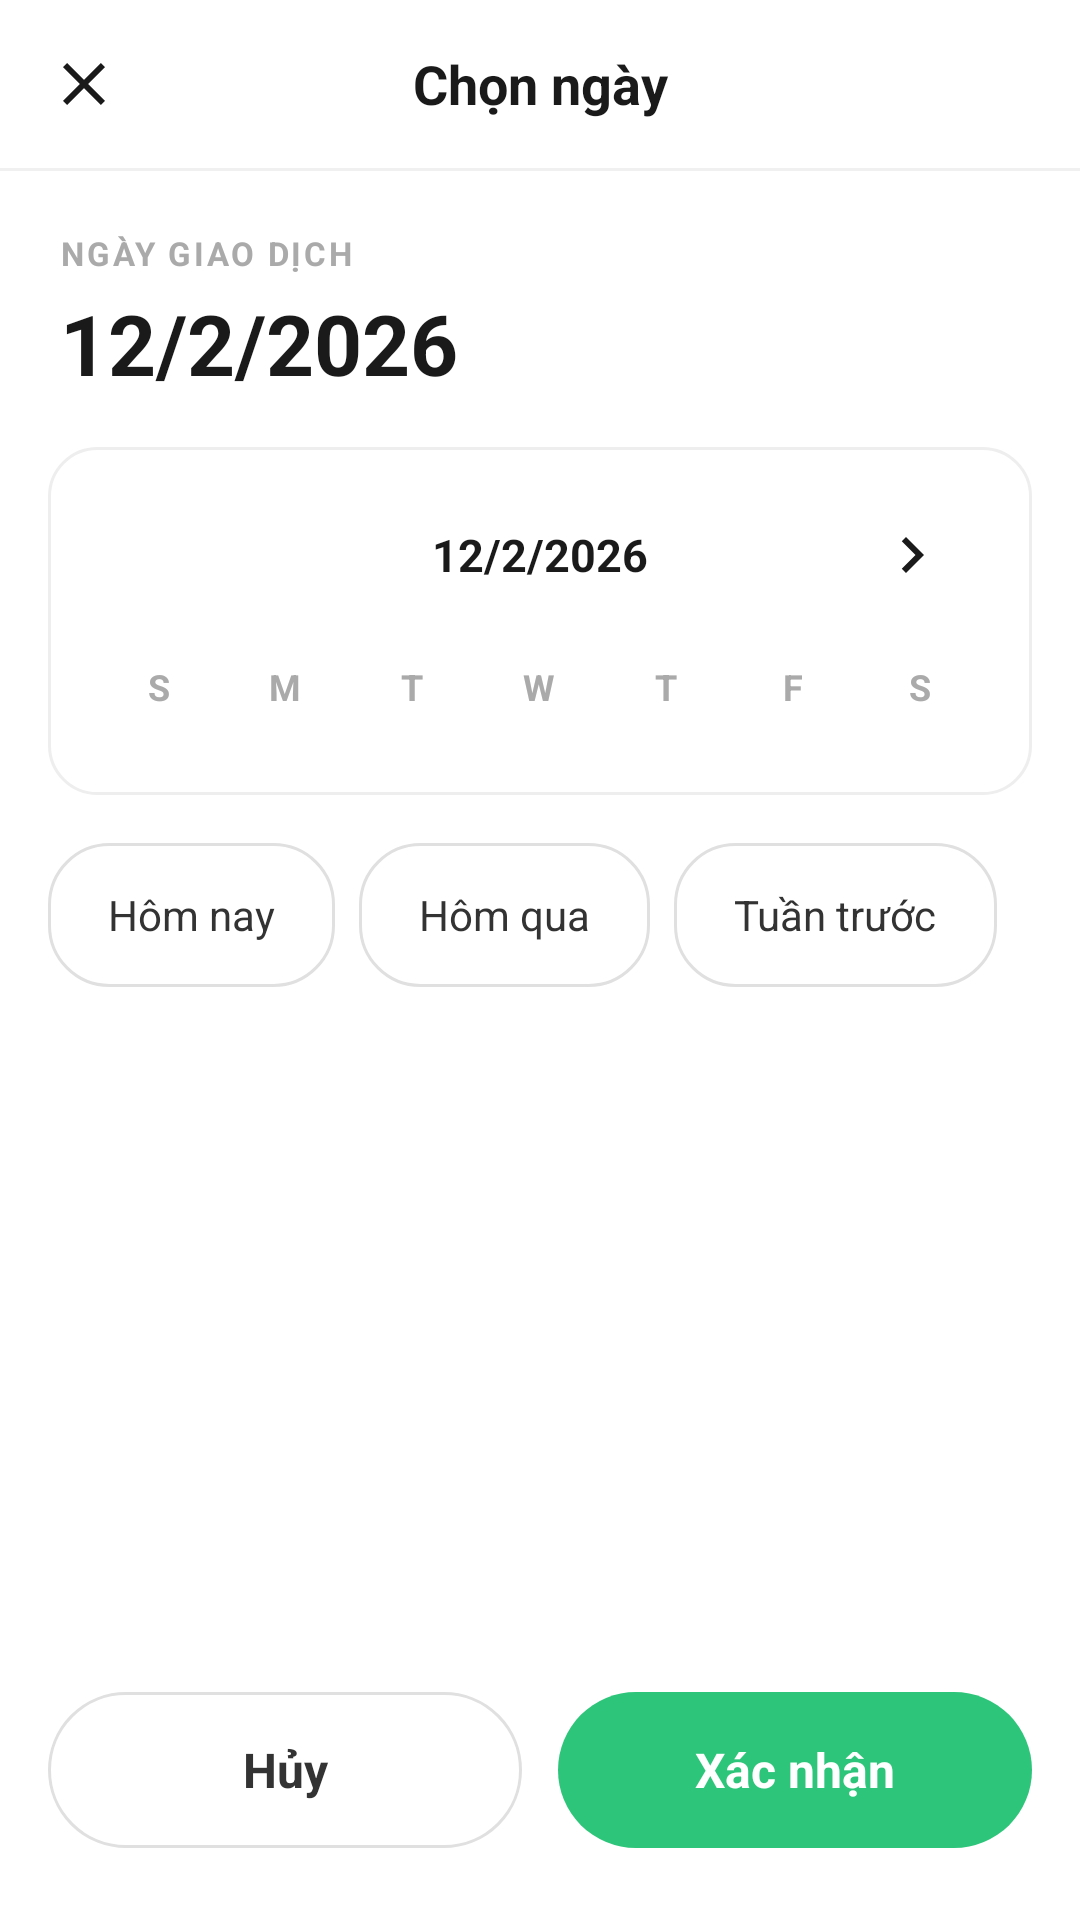

Point at icon controls on the screen. Image size 1080*1920, points as (x,y).
Đóng: (84,84)
